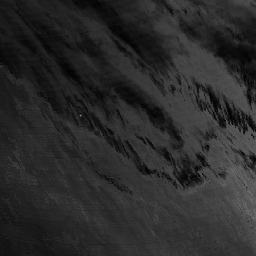Target: (78, 113, 82, 117)
